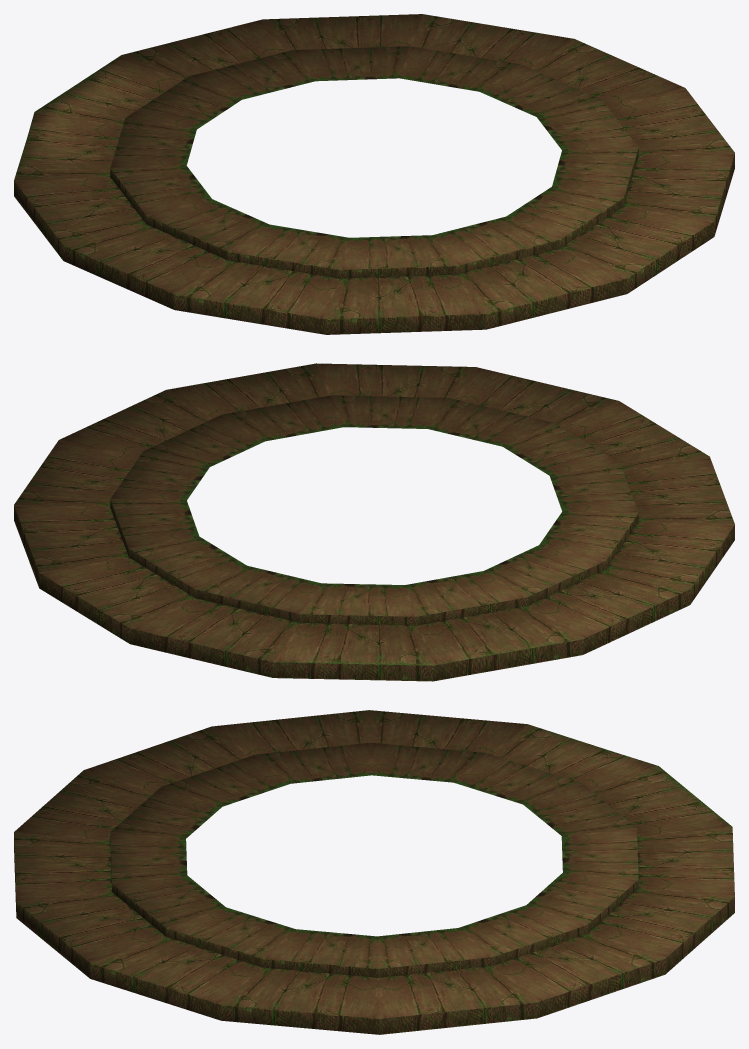
File: s_battle_01_floor_04.FBX
3 renders of one model, top to bottom at view 1: azimuth 30°, elevation 25°; view 2: azimuth 150°, elevation 25°; view 3: azimuth 270°, elevation 25°, orthographic.
Visible parts, largest first — view 1: Object035, Object036, Object034, Object037, Object033, Object038, yuan1; view 2: Object033, yuan1, Object034, Object038, Object035, Object037, Object036; view 3: Object037, Object038, Object036, yuan1, Object035, Object033, Object034.
Boxes of the visible parts, x1=… form: Object035: x1=174, y1=224, x2=486, y2=334; Object036: x1=433, y1=186, x2=714, y2=329; Object034: x1=14, y1=165, x2=268, y2=309; Object037: x1=537, y1=88, x2=734, y2=236; Object033: x1=14, y1=55, x2=241, y2=180; Object038: x1=399, y1=14, x2=684, y2=116; yuan1: x1=122, y1=14, x2=422, y2=99; Object033: x1=273, y1=571, x2=582, y2=681; yuan1: x1=39, y1=536, x2=321, y2=677; Object034: x1=484, y1=511, x2=734, y2=654; Object038: x1=14, y1=440, x2=209, y2=587; Object035: x1=503, y1=401, x2=734, y2=524; Object037: x1=59, y1=363, x2=343, y2=466; Object036: x1=316, y1=363, x2=618, y2=446; Object037: x1=90, y1=907, x2=379, y2=1034; Object038: x1=377, y1=905, x2=665, y2=1034; Object036: x1=14, y1=832, x2=225, y2=978; yuan1: x1=527, y1=827, x2=734, y2=974; Object035: x1=14, y1=726, x2=289, y2=840; Object033: x1=454, y1=724, x2=732, y2=836; Object034: x1=212, y1=710, x2=527, y2=783.
Bounding box in the file's own units: 41.95 × 1.6 × 41.34.
Materials: 1 (1 with a texture image).
